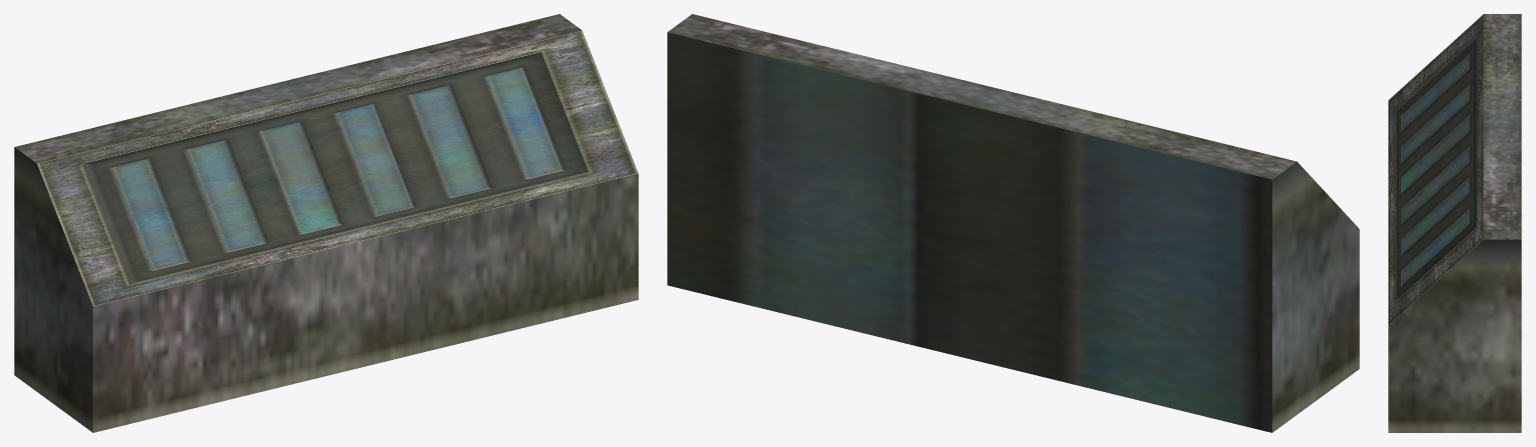
File: Light.fbx
3 views of the same model, side by side, from view 1: azimuth 30°, elevation 25°; view 2: azimuth 150°, elevation 25°; view 3: azimuth 270°, elevation 25° (orthographic). The views are drawn at different scales.
Visible parts, largest first — view 1: Light; view 2: Light; view 3: Light.
Boxes of the visible parts, x1,y1,x2,y2 form: Light: (14,14,638,432); Light: (667,14,1359,432); Light: (1388,14,1521,432).
Size of the model in its own units: 200 by 80 by 50.
Materials: 1 (1 with a texture image).
